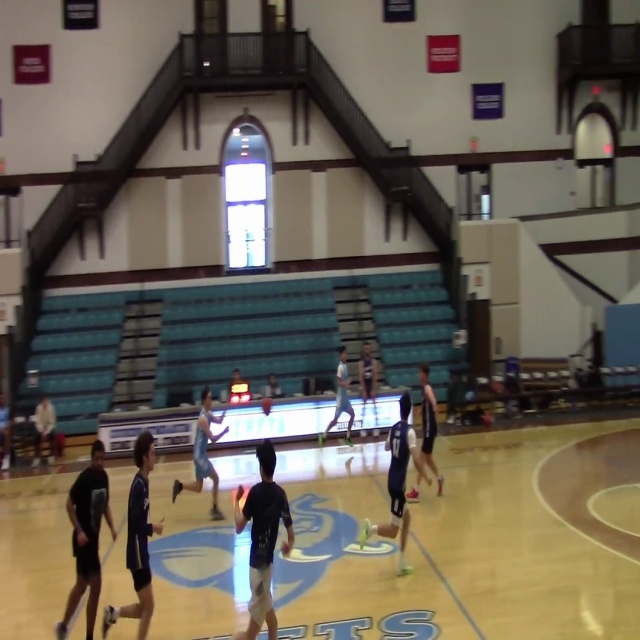Basketball: (261, 397, 273, 413)
